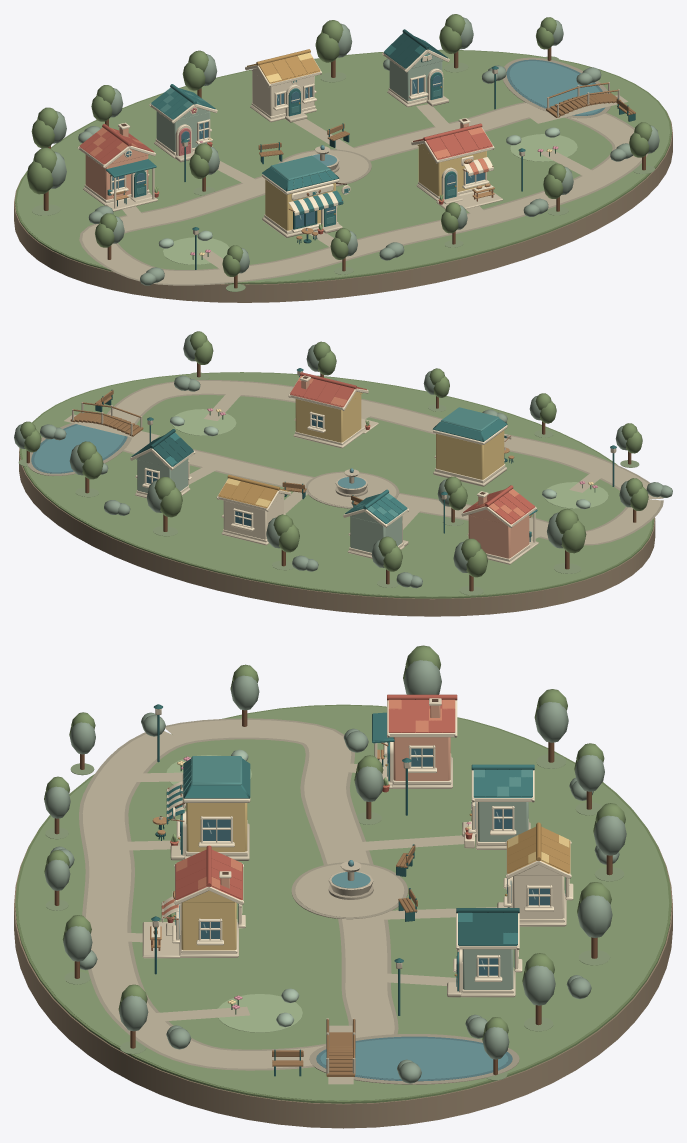
Rendered from town_growing.glb.
The picture shows the model from 3 angles, top to bottom: view 1: azimuth 30°, elevation 25°; view 2: azimuth 150°, elevation 25°; view 3: azimuth 270°, elevation 25°; orthographic projection. The views are drawn at different scales.
Parts seen in each view (by area): view 1: town_environment_runtime, bread • 2, coffee • 2, home • 2, hall • 1, books • 1, flowers • 1, Reserved garden • market.001, Reserved garden • craft.001; view 2: town_environment_runtime, coffee • 2, bread • 2, home • 2, hall • 1, flowers • 1, books • 1, Reserved garden • craft.001, Reserved garden • market.001; view 3: town_environment_runtime, bread • 2, coffee • 2, home • 2, hall • 1, books • 1, flowers • 1, Reserved garden • market.001.
Part boxes in pixels (left/top/right/bottom): town_environment_runtime: left=14, top=14, right=672, bottom=302; bread • 2: left=411, top=118, right=502, bottom=209; coffee • 2: left=262, top=155, right=350, bottom=244; home • 2: left=77, top=122, right=159, bottom=211; hall • 1: left=245, top=49, right=321, bottom=122; books • 1: left=382, top=29, right=449, bottom=107; flowers • 1: left=149, top=84, right=217, bottom=162; Reserved garden • market.001: left=510, top=134, right=577, bottom=161; Reserved garden • craft.001: left=163, top=237, right=229, bottom=264; town_environment_runtime: left=14, top=331, right=672, bottom=616; coffee • 2: left=432, top=407, right=514, bottom=486; bread • 2: left=288, top=372, right=378, bottom=448; home • 2: left=461, top=485, right=538, bottom=564; hall • 1: left=216, top=475, right=290, bottom=545; flowers • 1: left=343, top=489, right=408, bottom=558; books • 1: left=130, top=429, right=195, bottom=498; Reserved garden • craft.001: left=544, top=482, right=608, bottom=508; Reserved garden • market.001: left=172, top=409, right=236, bottom=435; town_environment_runtime: left=14, top=645, right=672, bottom=1128; bread • 2: left=142, top=845, right=245, bottom=958; coffee • 2: left=152, top=756, right=250, bottom=860; home • 2: left=372, top=694, right=457, bottom=792; hall • 1: left=497, top=822, right=573, bottom=926; books • 1: left=447, top=908, right=522, bottom=997; flowers • 1: left=462, top=764, right=534, bottom=849; Reserved garden • market.001: left=218, top=994, right=302, bottom=1032.
Bounding box in the file's own units: 37.2 × 4.71 × 26.
